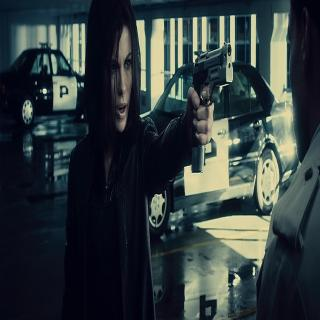gun: (187, 34, 238, 180)
